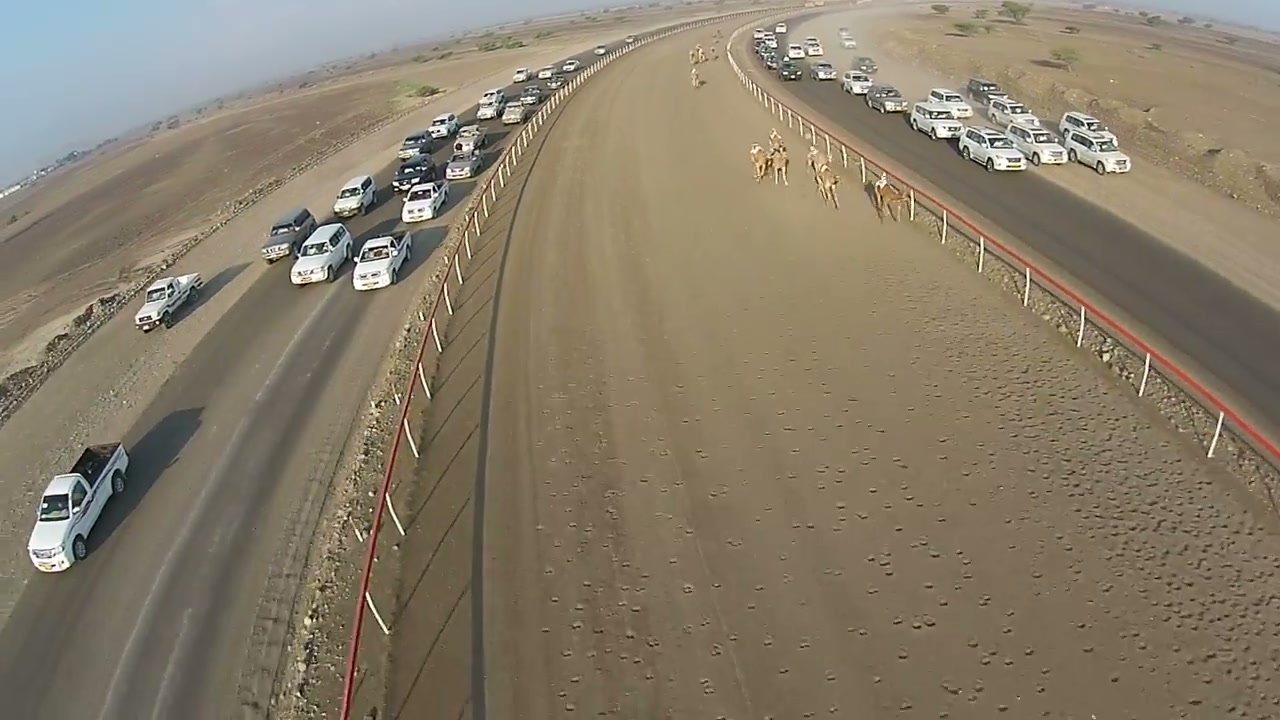animal_foot_print: (839, 213, 1279, 693), (822, 334, 1084, 708)
